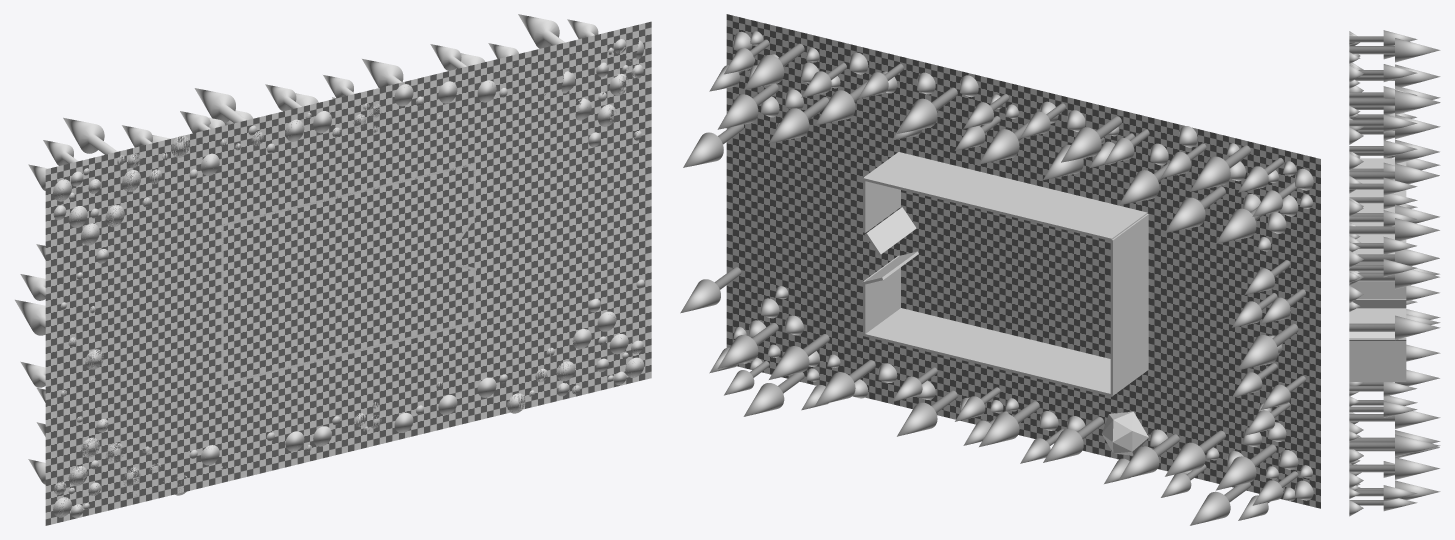
Rendered from forest10.c.dae.
3 views of the same model, side by side, from view 1: azimuth 30°, elevation 25°; view 2: azimuth 150°, elevation 25°; view 3: azimuth 270°, elevation 25° (orthographic). The views are drawn at different scales.
Parts seen in each view (by area): view 1: Plane.023, Cone.1222, Cone.1252, Cone.1289, Cube.001, Cube, Cone.1242, Cone.1249; view 2: Plane.023, Cube, Cube.001, Cube.002, Cube.004, Icosphere.032, Cube.003, Cube.005, Cone.1216, Cone.1296, Cone.1242, Cone.1222 (+21 smaller); view 3: Cube.004, Cube, Cone.1303, Cone.1252, Cone.1222, Cone.1289, Cone.1272, Cube.003, Cone.1242, Cone.1304, Cube.001, Cone.1171 (+46 smaller).
Part boxes in pixels (x1,y1,x2,y2): Plane.023: (45,21,651,525); Cone.1222: (63,117,125,165); Cone.1252: (194,88,256,135); Cone.1289: (518,14,564,48); Cube.001: (222,321,473,384); Cube: (222,163,473,225); Cone.1242: (362,59,423,106); Cone.1249: (15,299,76,346); Plane.023: (726,14,1320,508); Cube: (864,152,1147,240); Cube.001: (865,308,1112,396); Cube.002: (1110,214,1148,395); Cube.004: (863,255,900,336); Icosphere.032: (1102,411,1148,455); Cube.003: (863,152,900,232); Cube.005: (865,207,916,255); Cone.1216: (1165,186,1225,232); Cone.1296: (717,84,778,129); Cone.1242: (897,87,957,133); Cone.1222: (1190,145,1250,191); Cube.004: (1349,338,1406,381); Cube: (1349,158,1406,254); Cone.1303: (1349,315,1440,339); Cone.1252: (1349,90,1439,114); Cone.1222: (1349,38,1440,62); Cone.1289: (1349,218,1439,241); Cone.1272: (1349,457,1439,479); Cube.003: (1350,262,1406,298); Cone.1242: (1349,163,1439,183); Cone.1304: (1349,434,1440,456); Cube.001: (1349,308,1406,323); Cone.1171: (1349,411,1440,428).
Size of the model in its own units: 96.26 by 16 by 55.76.
1 material, 1 textured.
